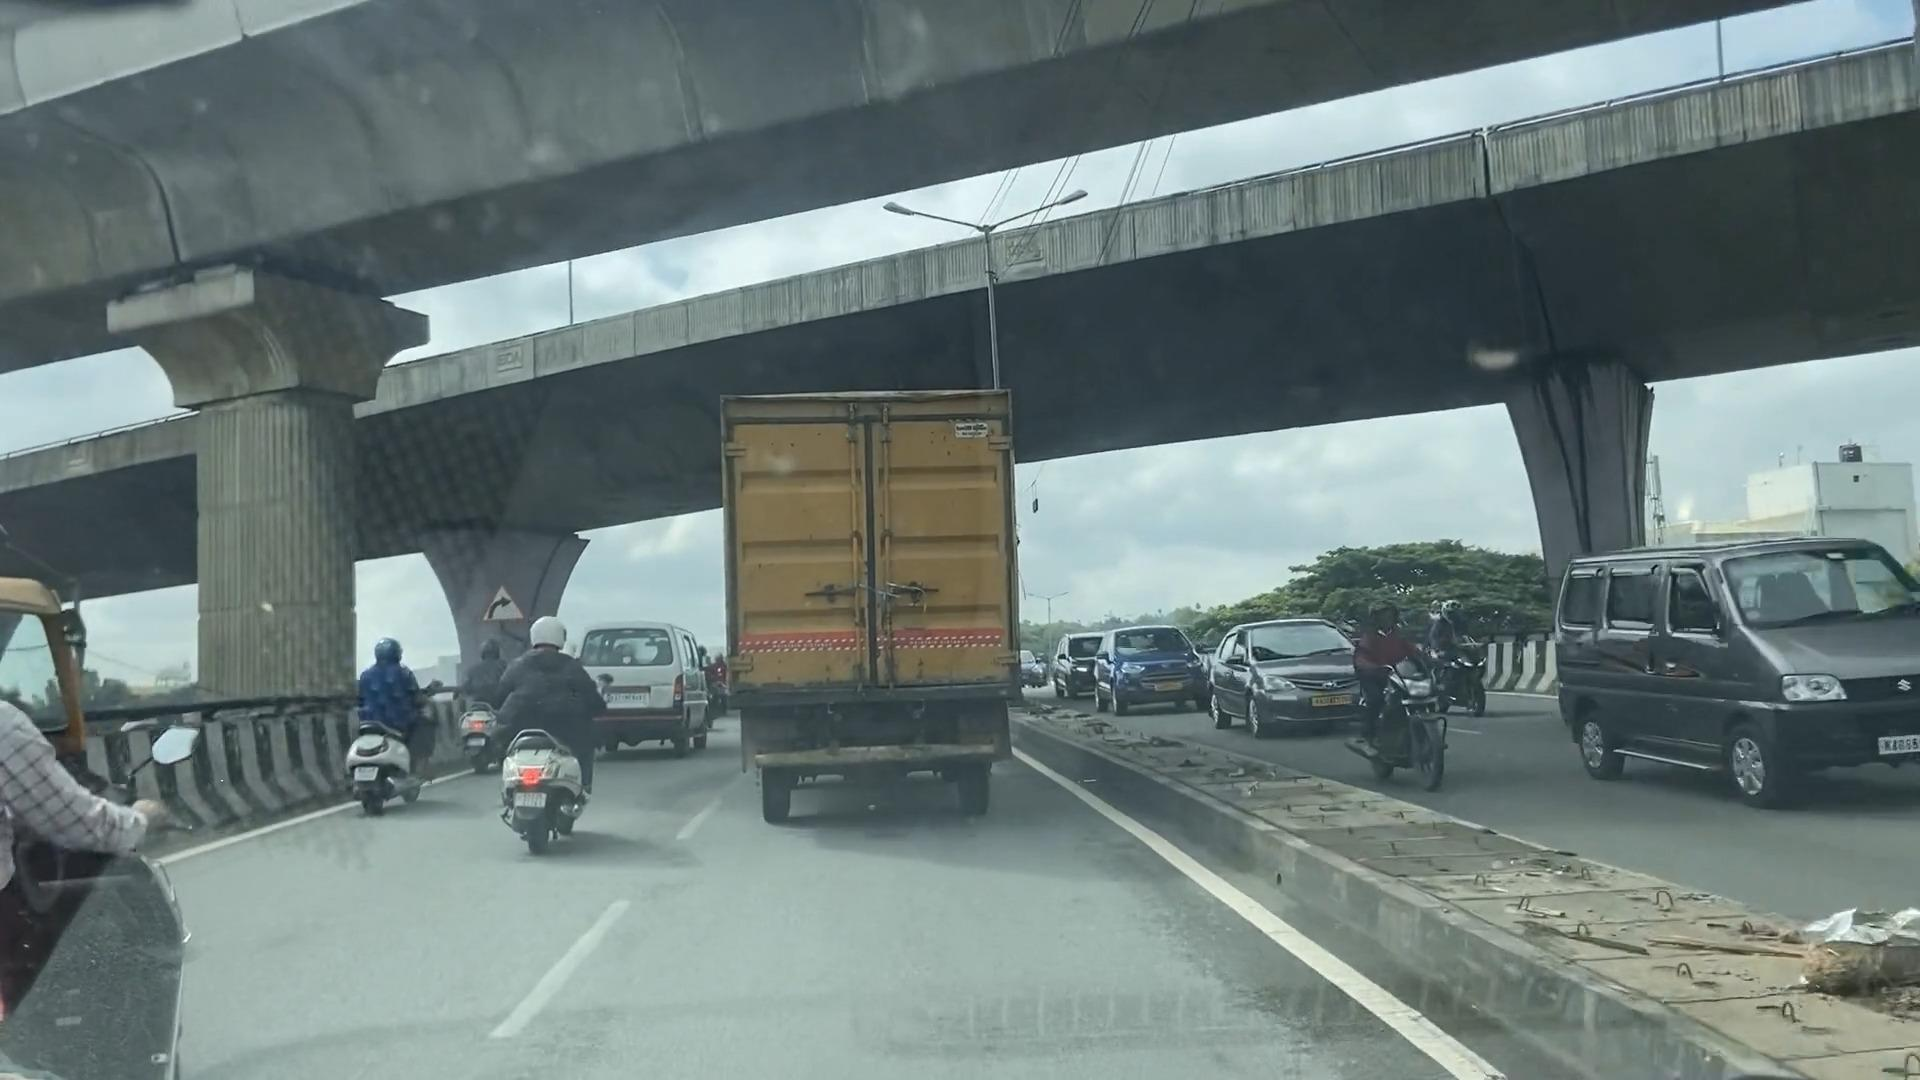HMV: (716, 360, 1023, 832)
LMV: (497, 613, 587, 845), (340, 640, 419, 808)
